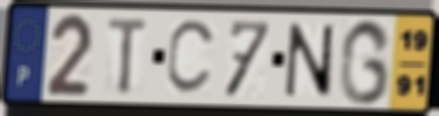2: (47, 11, 96, 99)
7: (223, 18, 272, 101)
C: (164, 17, 220, 98)
G: (336, 17, 394, 107)
N: (283, 21, 336, 100)
T: (106, 15, 151, 97)
